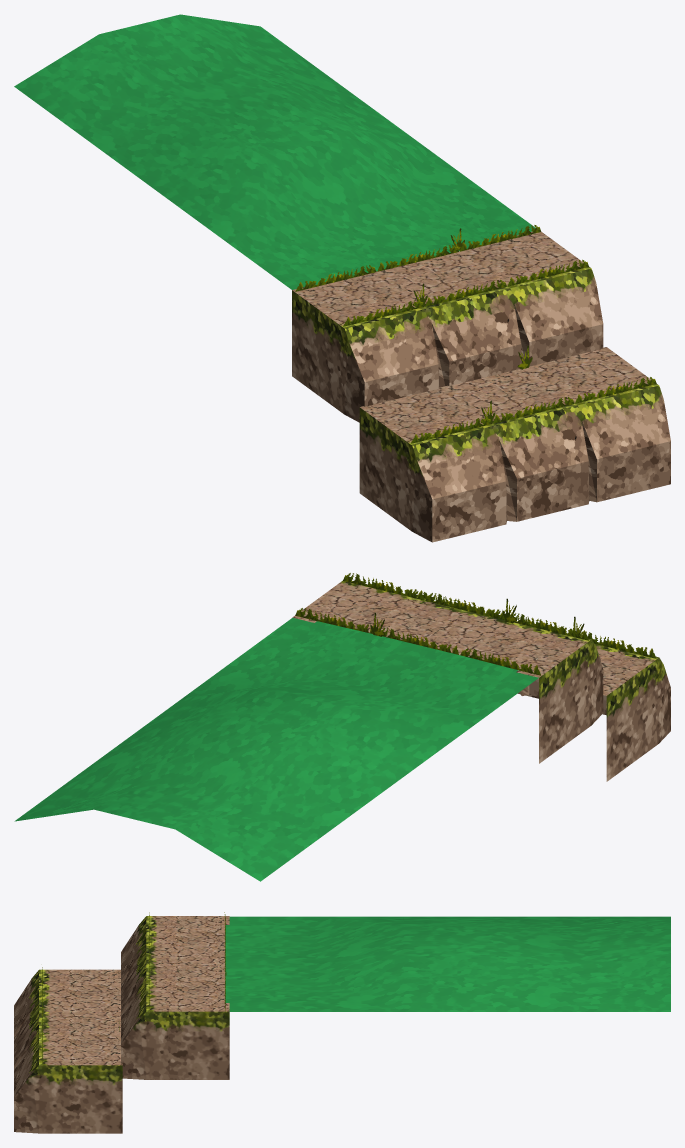
File: terreno_02.FBX
3 views of the same model, one above another, from view 1: azimuth 30°, elevation 25°; view 2: azimuth 150°, elevation 25°; view 3: azimuth 270°, elevation 25° (orthographic). The views are drawn at different scales.
Parts seen in each view (by area): view 1: Terreno015; view 2: Terreno015; view 3: Terreno015.
Part boxes in pixels (x1,y1,x2,y2): Terreno015: (14, 14, 670, 542); Terreno015: (14, 573, 670, 881); Terreno015: (14, 912, 670, 1133).
Bounding box in the file's own units: 6 × 17.44 × 4.3.
2 materials, 2 textured.
